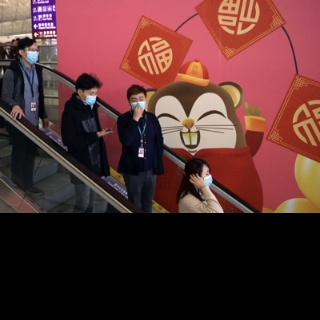with_mask: (22, 45, 40, 64), (130, 94, 147, 113), (81, 89, 99, 106), (200, 169, 213, 188)
